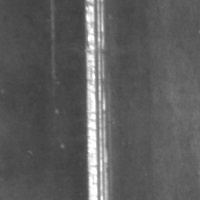scratches: (83, 1, 111, 200)
